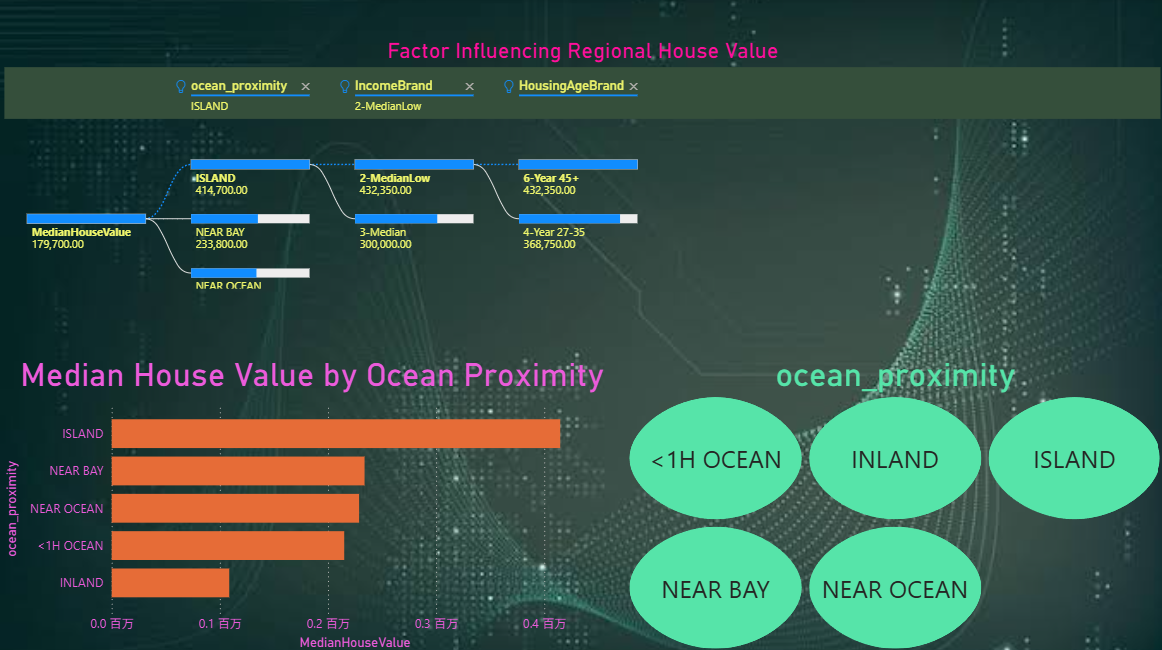

The dashboard page shown, as its layout file describes it:
{"tool":"powerbi","page":{"name":"Geographic Analysis of House Value","canvas":[1280,720],"ordinal":3},"visuals":[{"type":"decompositionTreeVisual","title":"Factor Influencing Regional House Value","fields":{"Analyze":["FactHousing.MedianHouseValue"],"ExplainBy":["DimOceanProximity.ocean_proximity","DimIncomeBand.IncomeBrand","DimAgeBand.HousingAgeBrand"]},"box":[0,43.9,1280.3,279.9],"z":0},{"type":"clusteredBarChart","title":"Median House Value by Ocean Proximity","fields":{"Category":["DimOceanProximity.ocean_proximity"],"Y":["FactHousing.MedianHouseValue"]},"box":[0,392.5,686.1,328],"z":1000},{"type":"advancedSlicerVisual","fields":{"Values":["DimOceanProximity.ocean_proximity"]},"box":[686.1,392.5,594.2,328],"z":2000}]}

Visuals, with their boxes in screenshot pixels (x1, y1, x2, y2), scaled from the page's 1280x720 canvas onto the 1162x650 screenshot:
"Factor Influencing Regional House Value" decompositionTreeVisual: x1=0, y1=40, x2=1161, y2=292
"Median House Value by Ocean Proximity" clusteredBarChart: x1=0, y1=354, x2=623, y2=649
advancedSlicerVisual - DimOceanProximity.ocean_proximity: x1=623, y1=354, x2=1161, y2=649
